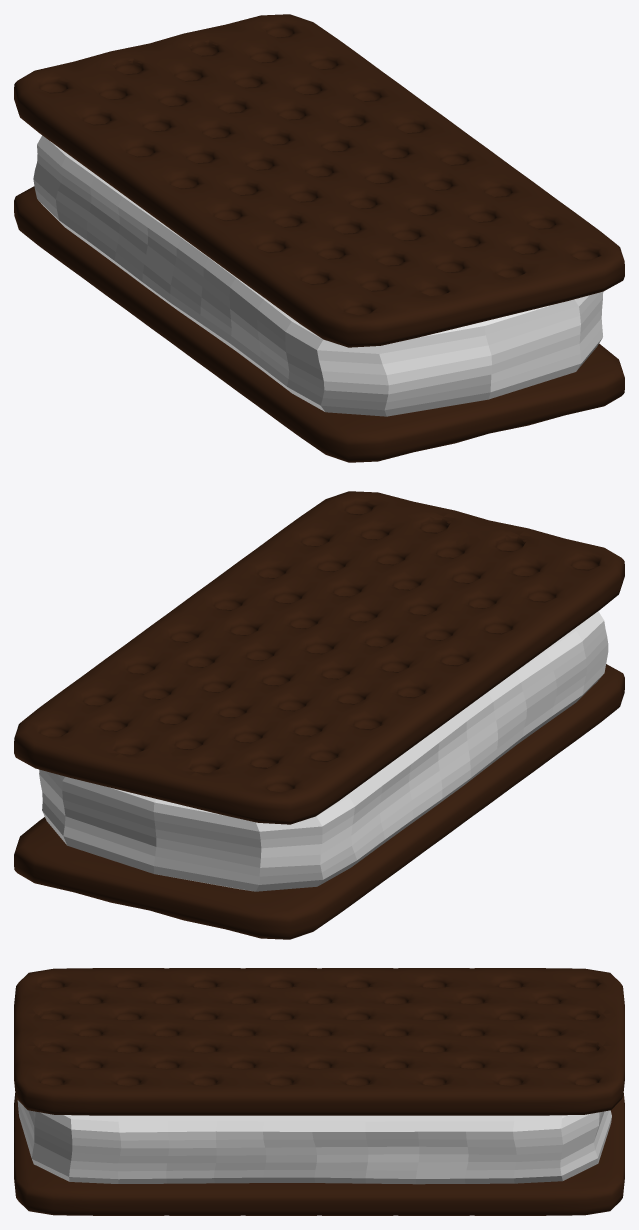
File: IceCreamSandwich2.0.fbx
The picture shows the model from 3 angles, top to bottom: view 1: azimuth 30°, elevation 25°; view 2: azimuth 150°, elevation 25°; view 3: azimuth 270°, elevation 25°; orthographic projection. The views are drawn at different scales.
Visible parts, largest first — view 1: Plane1; view 2: Plane1; view 3: Plane1.
Part boxes in pixels (box(x1,y1,x2,y2)): Plane1: box(14, 14, 624, 462); Plane1: box(14, 491, 624, 939); Plane1: box(14, 968, 624, 1215).
Size of the model in its own units: 200 by 90.26 by 400.
